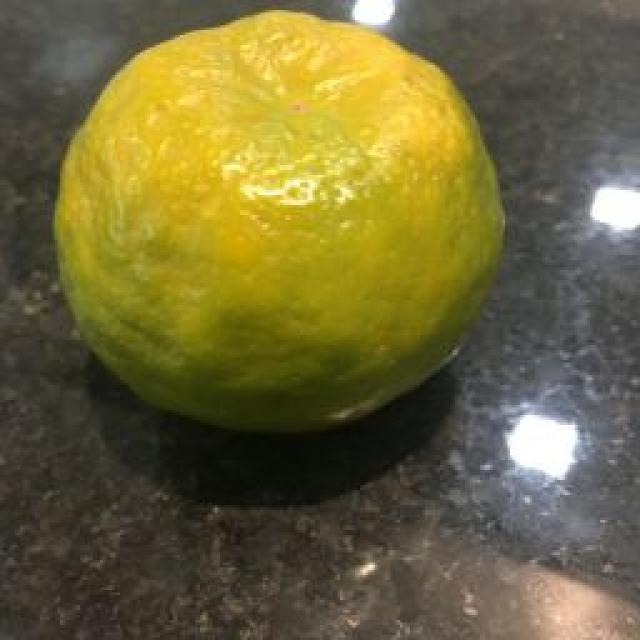Good_Orange: (52, 10, 508, 435)
